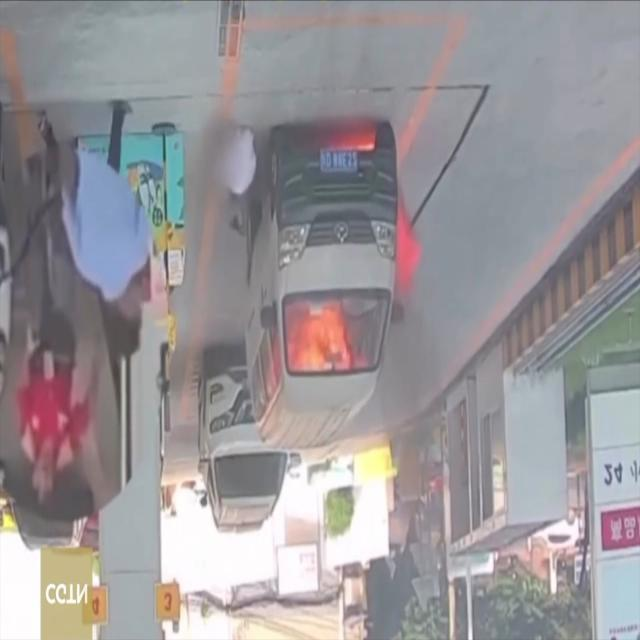fire: (284, 300, 360, 372), (392, 194, 424, 302), (314, 125, 384, 156)
